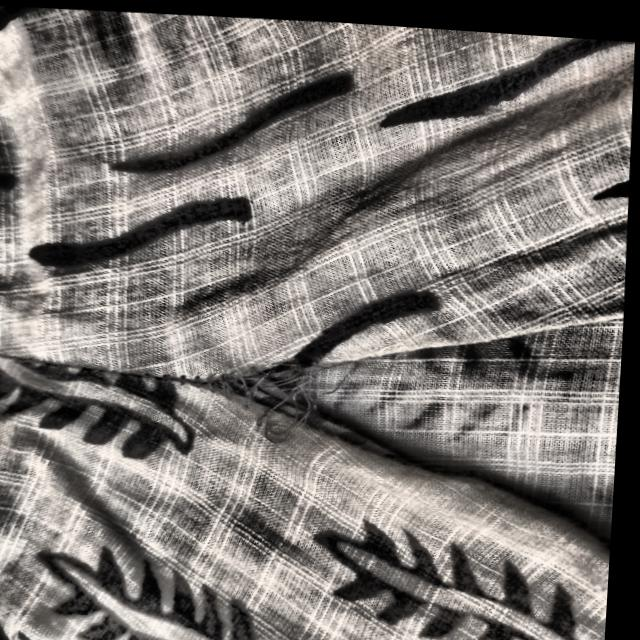Stitch: (147, 305, 387, 480)
